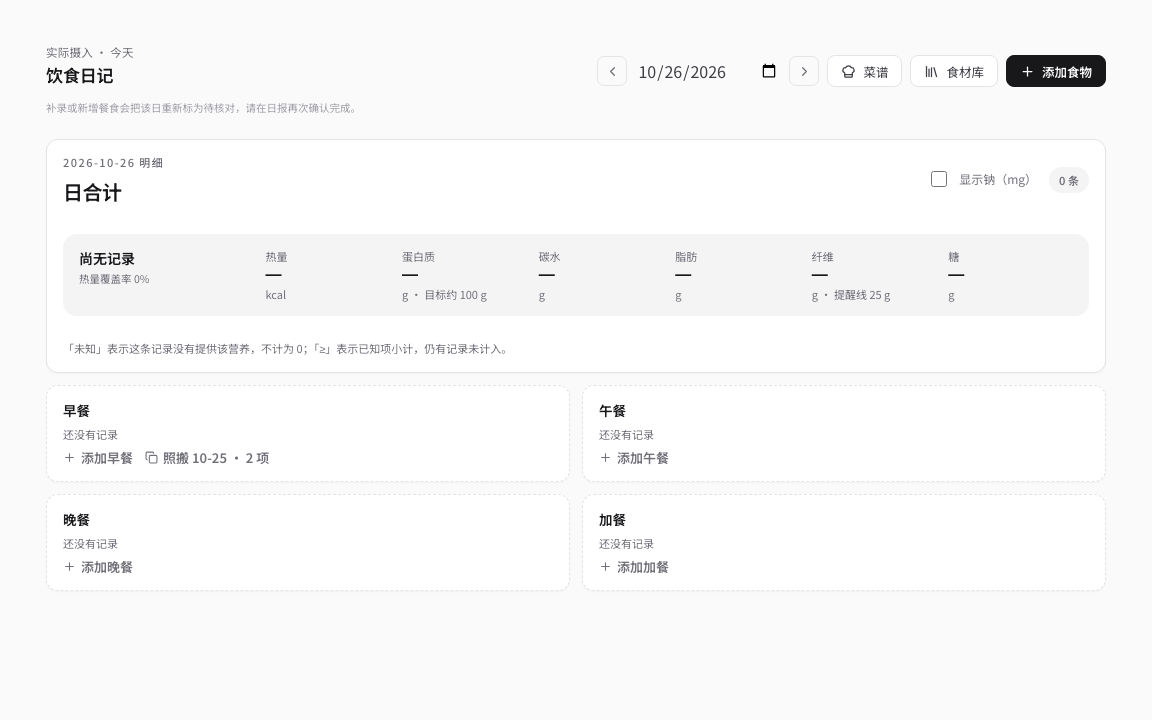
Test: offers to copy the latest same-meal day and lists what comes over
Click the button "照搬 10-25 · 2 项": (207, 457) [145,448,269,467]
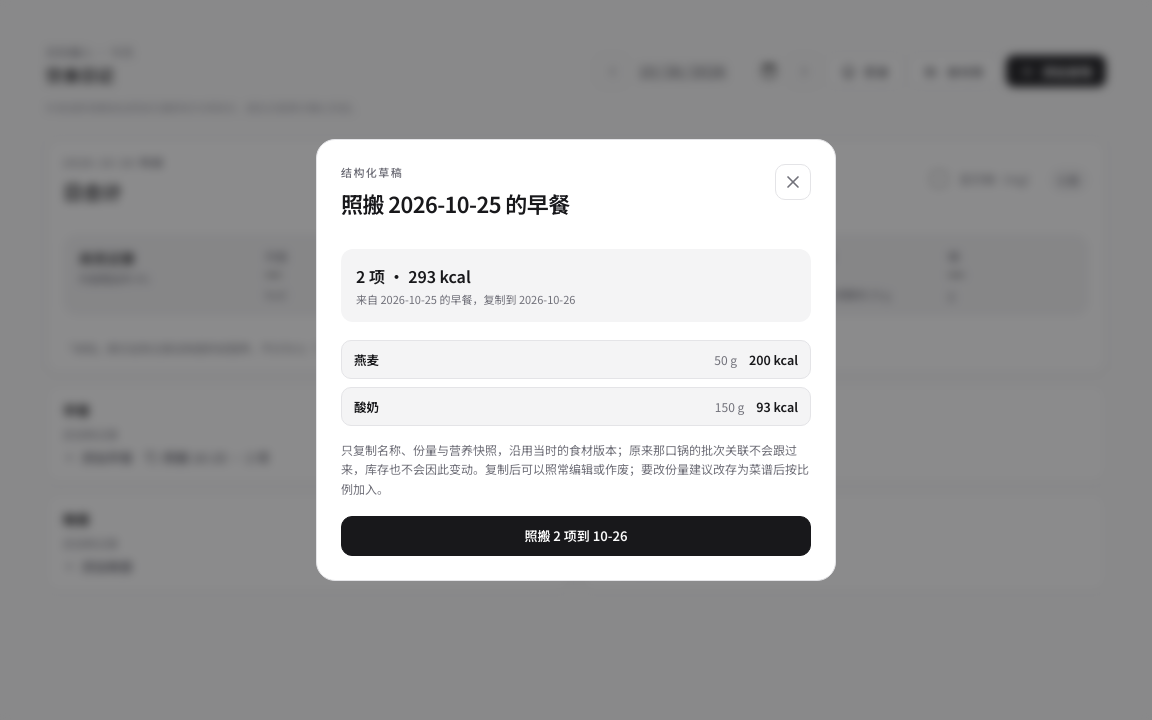
Check: the number of list items is 2, box [341,340,811,379]; [341,387,811,426]
Check: the dialog with class "modal" shows "293 kcal", box [408,264,471,288]
